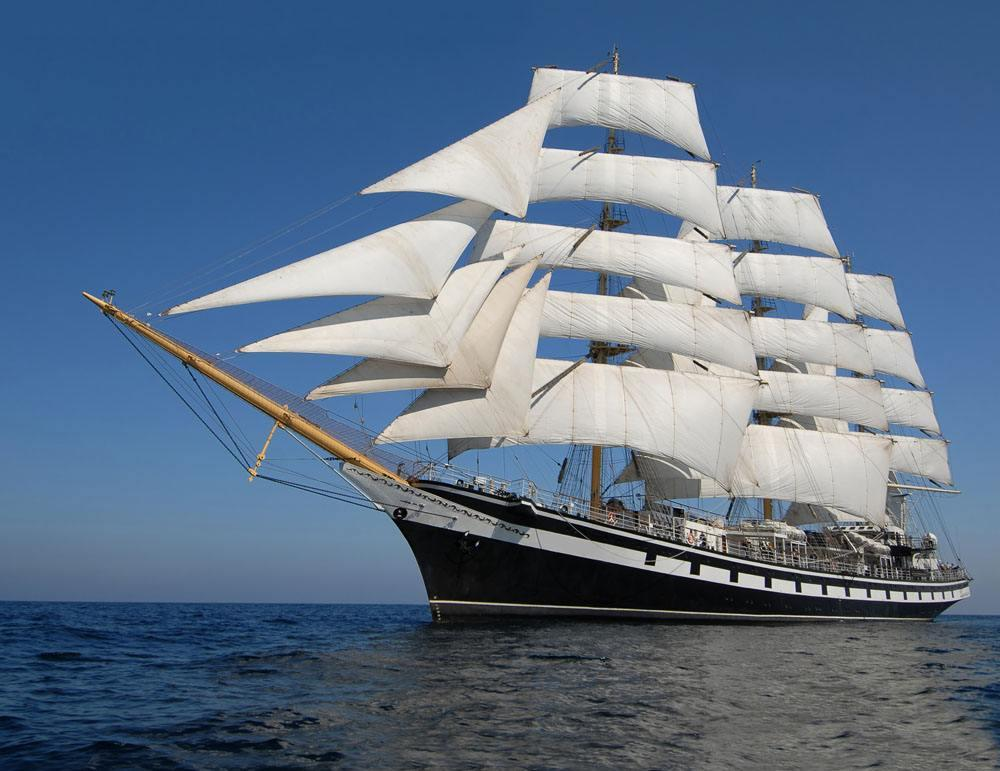fanchuan: (76, 39, 976, 622)
